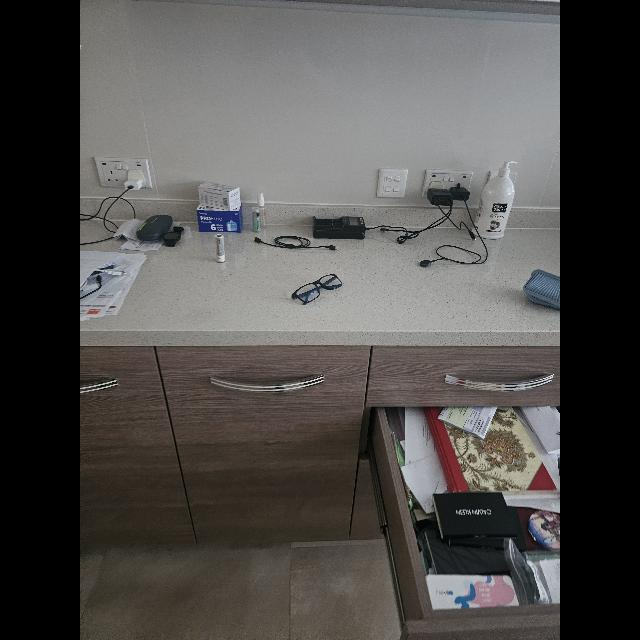glasses: (292, 274, 342, 304)
